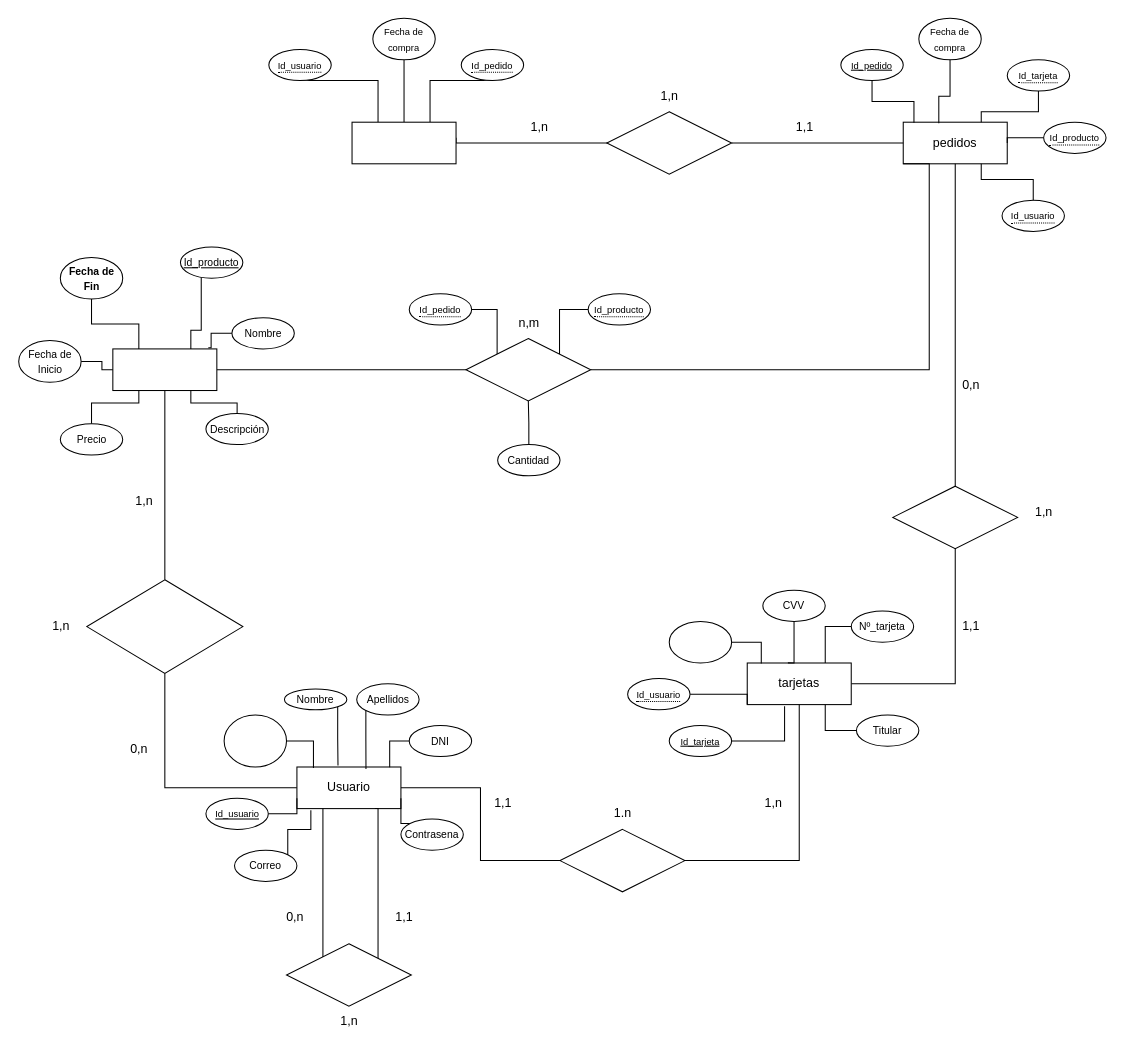
Some shapes in this 1124 by 1056 pixel diagram are drawn without their labels. The box of each missing label's shape, as (x1, y1, x2, y2) in pixels:
detalles del pedido: (465, 337, 591, 401)
es admin: (285, 943, 411, 1006)
Fecha de caducidad: (668, 620, 732, 663)
Fecha de nacimiento: (223, 714, 287, 767)
Historial: (351, 121, 456, 164)
pagan: (892, 485, 1018, 549)
Producto: (112, 348, 217, 391)
puede agregar/retirar/modificar: (86, 579, 243, 673)
se almacena: (606, 111, 732, 174)
tiene: (559, 828, 685, 892)
